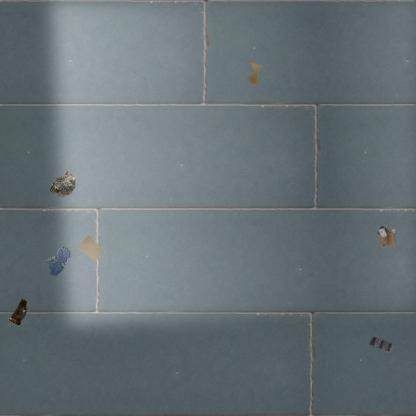dirty: (48, 169, 78, 199), (76, 233, 106, 262), (7, 296, 29, 326), (374, 224, 398, 250), (368, 334, 394, 354)
liquid: (46, 246, 70, 276), (247, 59, 263, 85)
